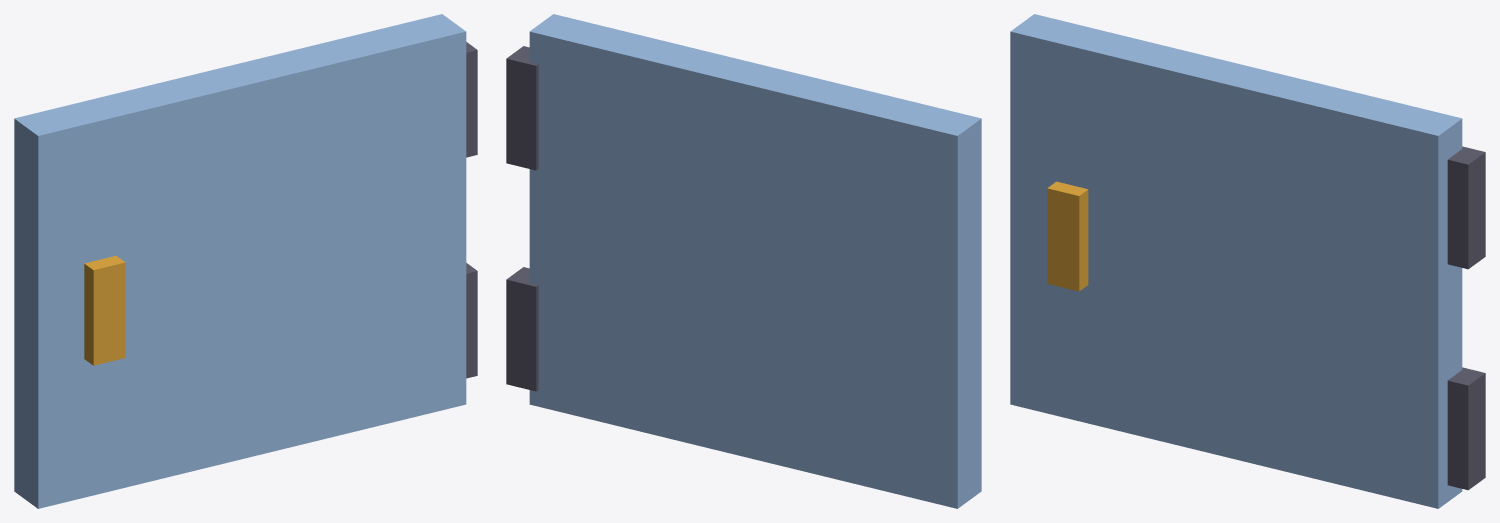
Rendered from cupboard_door.fbx.
3 views of the same model, side by side, from view 1: azimuth 30°, elevation 25°; view 2: azimuth 150°, elevation 25°; view 3: azimuth 330°, elevation 25° (orthographic).
Parts seen in each view (by area): view 1: Cube.080; view 2: Cube.080; view 3: Cube.080.
Part boxes in pixels (box(x1,y1,x2,y2)): Cube.080: box(14, 14, 477, 508); Cube.080: box(506, 14, 981, 508); Cube.080: box(1010, 14, 1485, 508).
Size of the model in its own units: 169 by 134 by 23.29.
